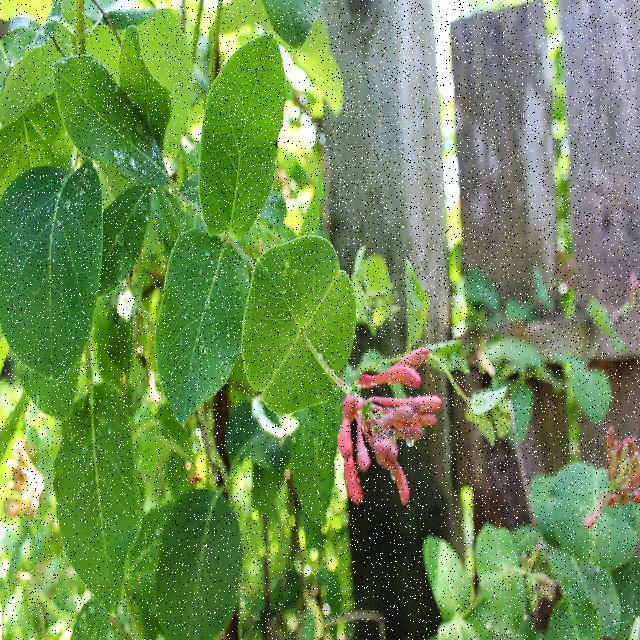Aphids: (95, 48, 451, 542)
